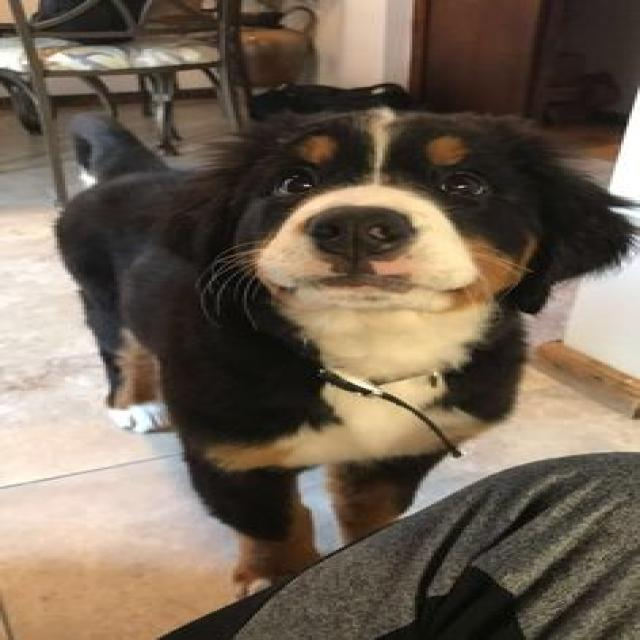Carnivorous: (54, 87, 640, 591)
